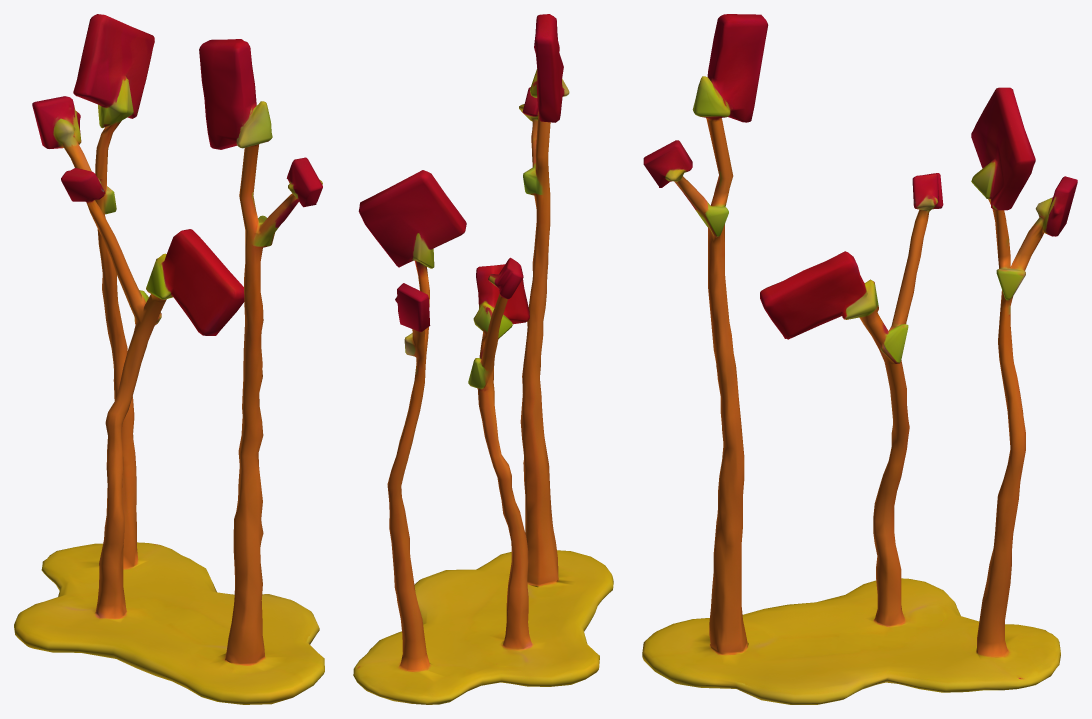
The model's file is b4748118-cf54-4c9b-9e0d-0fff9157a99c.glb.
The picture shows the model from 3 angles, left to right: view 1: azimuth 30°, elevation 25°; view 2: azimuth 150°, elevation 25°; view 3: azimuth 270°, elevation 25°; orthographic projection. The views are drawn at different scales.
Parts seen in each view (by area): view 1: tripo_node_a4a7728d-9afe-4a60-9e12-c42ba1401720; view 2: tripo_node_a4a7728d-9afe-4a60-9e12-c42ba1401720; view 3: tripo_node_a4a7728d-9afe-4a60-9e12-c42ba1401720.
Boxes of the visible parts, bbox=[...] form: tripo_node_a4a7728d-9afe-4a60-9e12-c42ba1401720: bbox=[14, 14, 324, 704]; tripo_node_a4a7728d-9afe-4a60-9e12-c42ba1401720: bbox=[353, 14, 613, 704]; tripo_node_a4a7728d-9afe-4a60-9e12-c42ba1401720: bbox=[642, 14, 1077, 704].
Size of the model in its own units: 0.3973 by 1 by 0.6086.
Materials: 1 (1 with a texture image).
